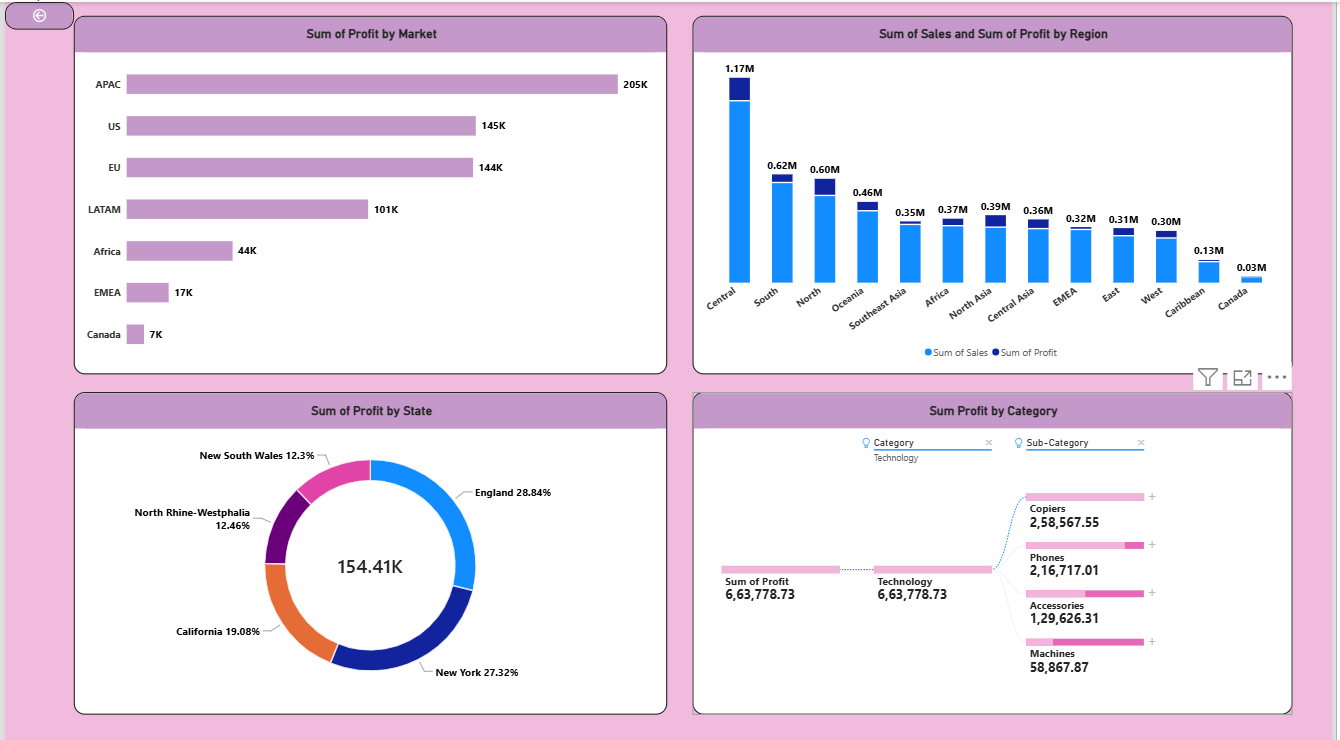

The page's visual inventory and layout, read from the dashboard file:
{"tool":"powerbi","page":{"name":"DrillThrough_Details","canvas":[1920,1080],"ordinal":2},"visuals":[{"type":"actionButton","box":[0,0,100,40],"z":0},{"type":"barChart","fields":{"Category":["Fact_Table.Market"],"Y":["Sum(Fact_Table.Profit)"]},"box":[99.5,19.9,859.6,519.4],"z":1000},{"type":"columnChart","fields":{"Category":["Fact_Table.Region"],"Y":["Sum(Fact_Table.Sales)","Sum(Fact_Table.Profit)"]},"box":[995.3,19.9,868.6,519.4],"z":2000},{"type":"donutChart","fields":{"Category":["Fact_Table.State"],"Y":["Sum(Fact_Table.Profit)"]},"box":[99.5,564.6,859.6,466.9],"z":4000},{"type":"decompositionTreeVisual","title":"Sum Profit by Category","fields":{"Analyze":["Sum(Fact_Table.Profit)"],"ExplainBy":["Fact_Table.Category Hierarchy.Sub-Category","Fact_Table.Sales","Fact_Table.Category Hierarchy.Product Name","Fact_Table.Category Hierarchy.Category"]},"box":[995.3,564.6,868.6,466.9],"z":4001}]}

Visuals, with their boxes in screenshot pixels (x1, y1, x2, y2), scaled from the page's 1920x1080 canvas onto the 1340x740 screenshot:
actionButton: [0, 0, 70, 27]
barChart - Fact_Table.Market x Sum(Fact_Table.Profit): [69, 14, 669, 370]
columnChart - Fact_Table.Region x Sum(Fact_Table.Sales): [695, 14, 1301, 370]
donutChart - Fact_Table.State x Sum(Fact_Table.Profit): [69, 387, 669, 707]
"Sum Profit by Category" decompositionTreeVisual: [695, 387, 1301, 707]
